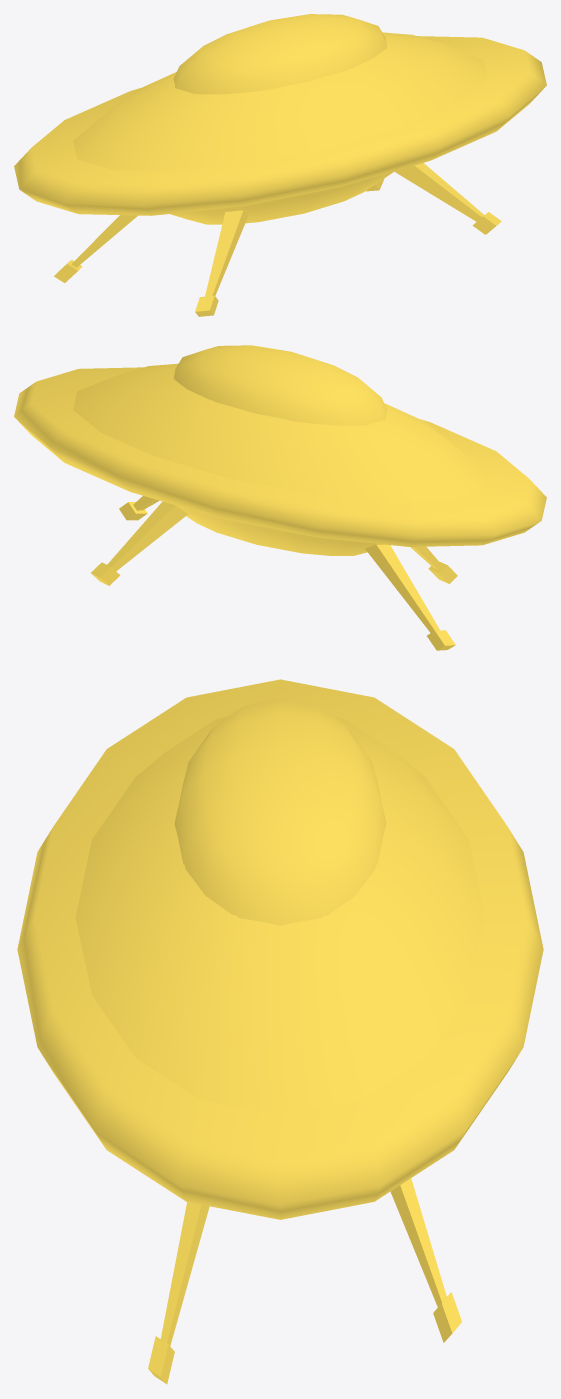
The picture shows the model from 3 angles, top to bottom: view 1: azimuth 30°, elevation 25°; view 2: azimuth 150°, elevation 25°; view 3: azimuth 270°, elevation 25°; orthographic projection. The views are drawn at different scales.
Visible parts, largest first — view 1: Mesh; view 2: Mesh; view 3: Mesh.
Boxes of the visible parts, x1,y1,x2,y2 form: Mesh: (14,14,546,316); Mesh: (14,345,546,650); Mesh: (17,679,543,1384).
Size of what is drawn, in the model's own units: 5.28 by 2.22 by 2.3.
Materials: 1 (1 with a texture image).
